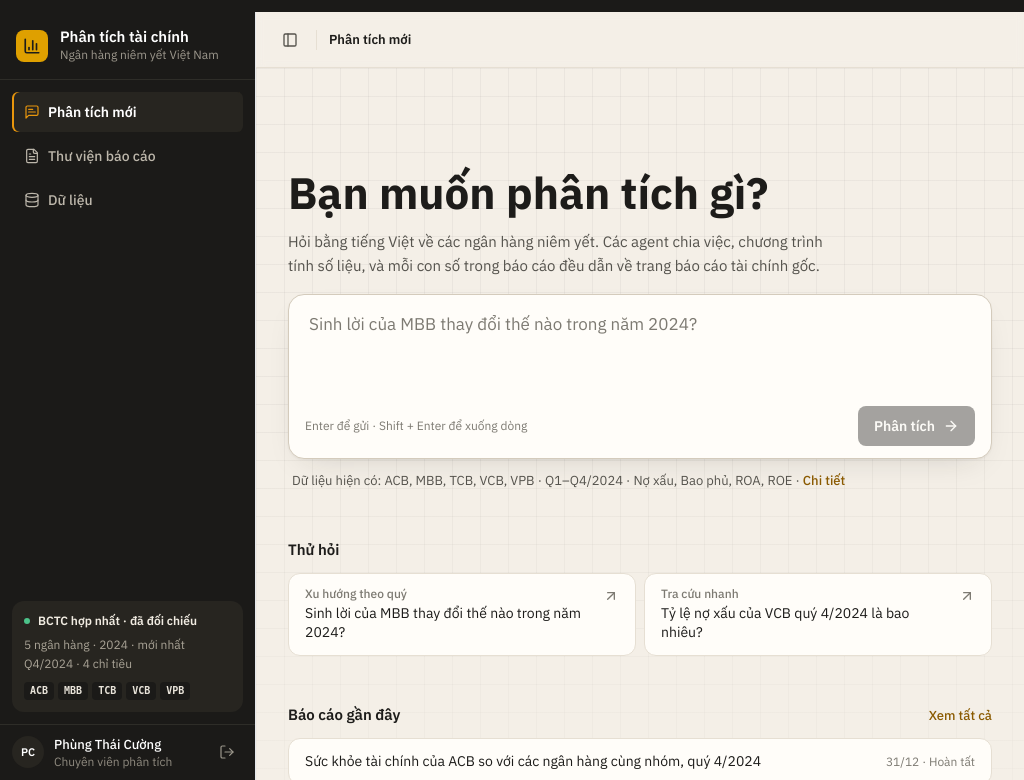
it: ER-6 AskPage (Lean Ask Screen) › renders backend suggested questions and populates textarea on click without submitting
This screenshot has width=1024, height=780.
Expected: the heading "Thử hỏi" is shown, left=288, top=540, right=339, bottom=559
Note: Click suggestion
Click the button "Tỷ lệ nợ xấu của VCB quý 4/2024 là bao nhiêu?": (818, 614) left=644, top=573, right=992, bottom=656
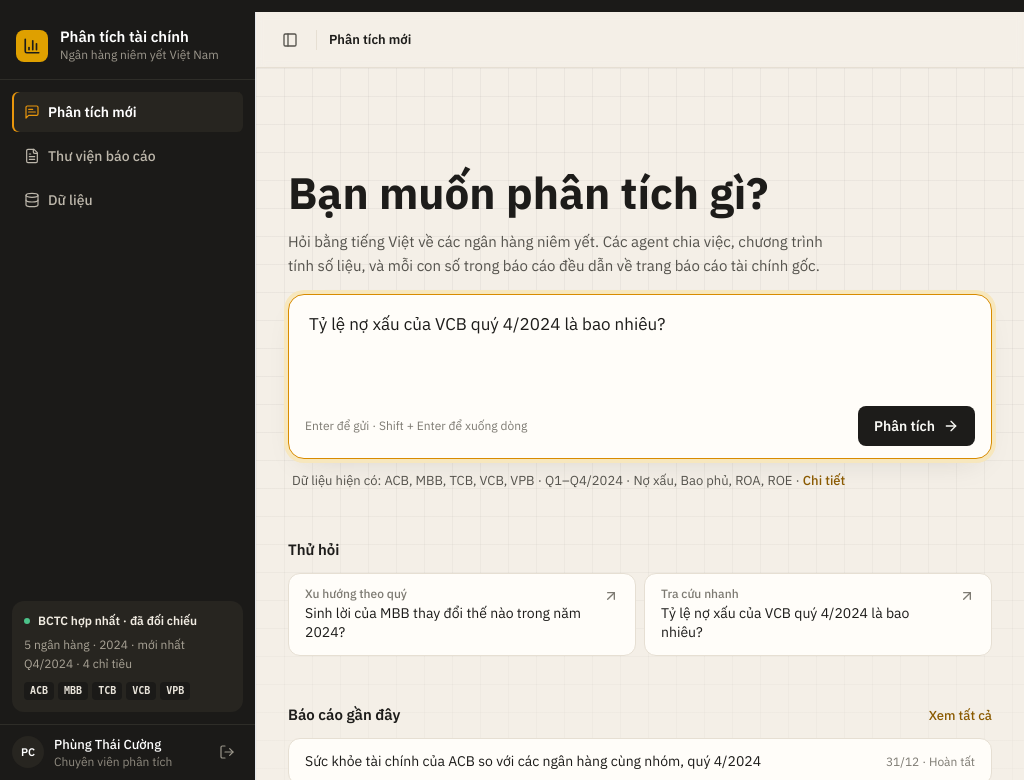
Expected: the heading "Bạn muốn phân tích gì?" is shown, left=288, top=164, right=768, bottom=221
Expected: the text box named "Câu hỏi phân tích" holds "Tỷ lệ nợ xấu của VCB quý 4/2024 là bao nhiêu?", left=289, top=295, right=991, bottom=402
